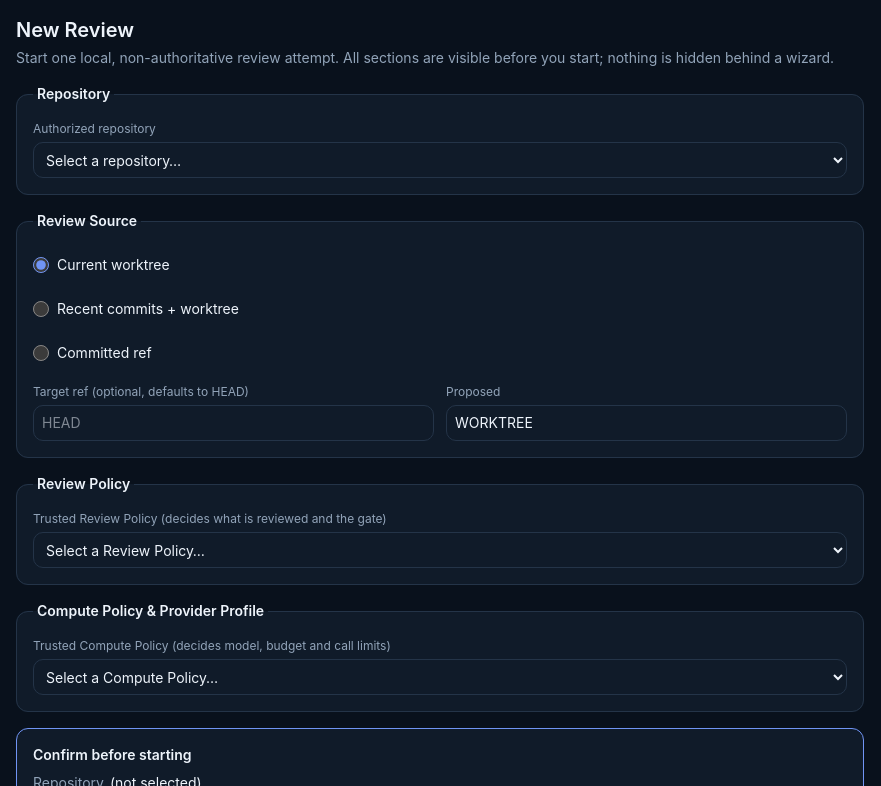
Test: NewReviewPage › blocks committed-ref submission when the worktree is dirty
Select "acme/payment-service" in the dropdown labelled "Authorized repository". click: x=440, y=160
box: 33,142 -> 847,178
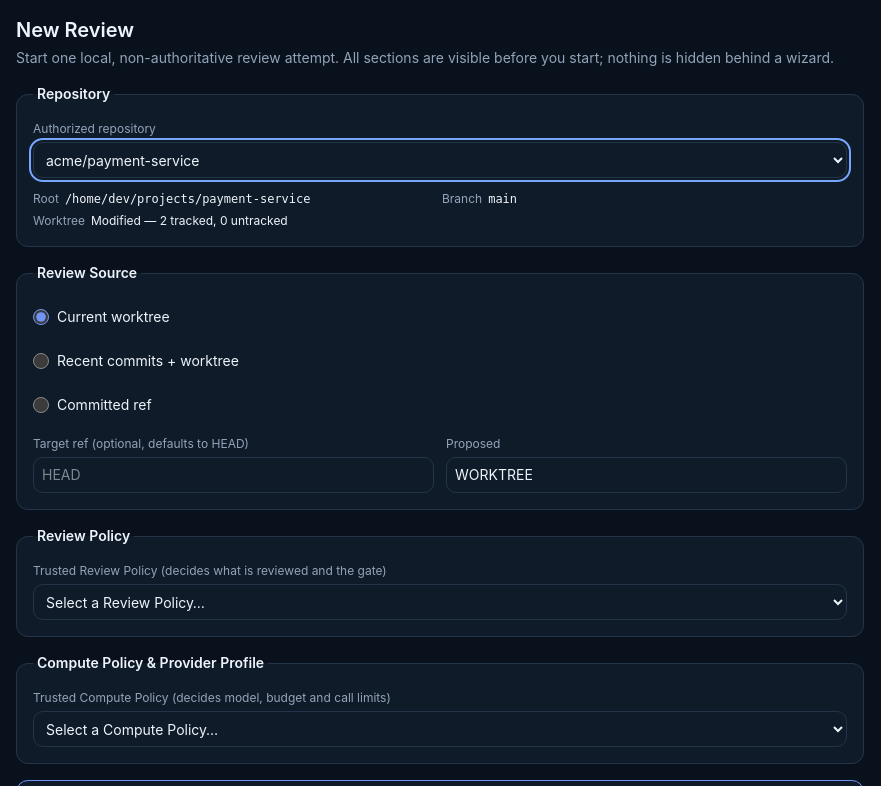
Select "default-review 1.3.0 (built-in)" in the dropdown labelled "Trusted Review Policy". click: x=440, y=602
box: 33,584 -> 847,620
(page scrolled)
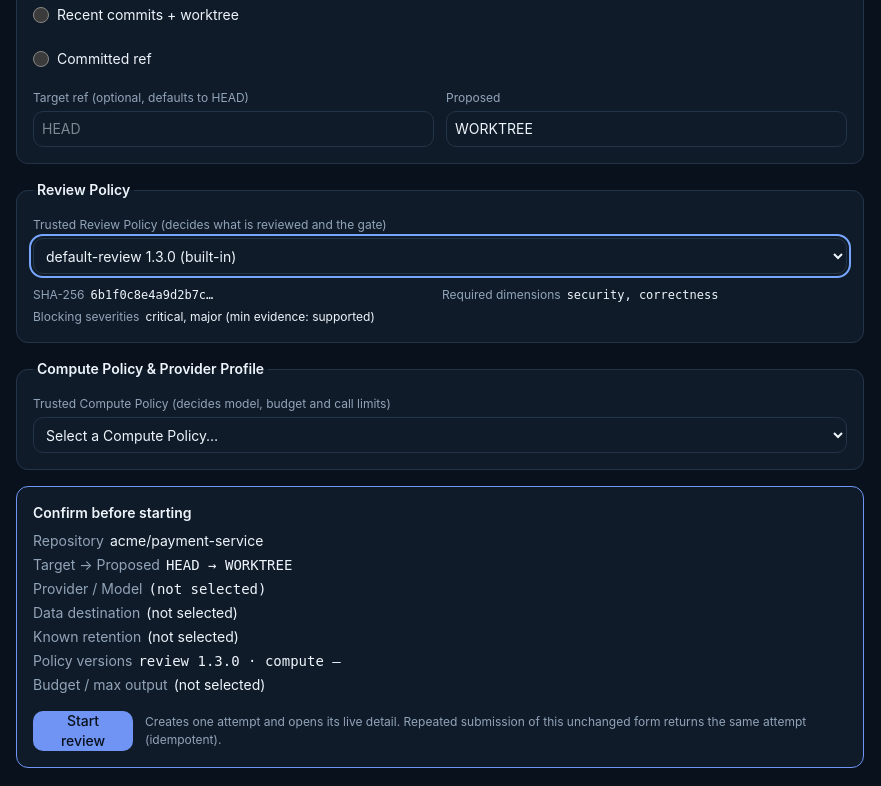
Select "openai-gpt-5.6 2.1.0 — openai / gpt-5.6" in the dropdown labelled "Trusted Compute Policy". click: x=440, y=435
box: 33,417 -> 847,453
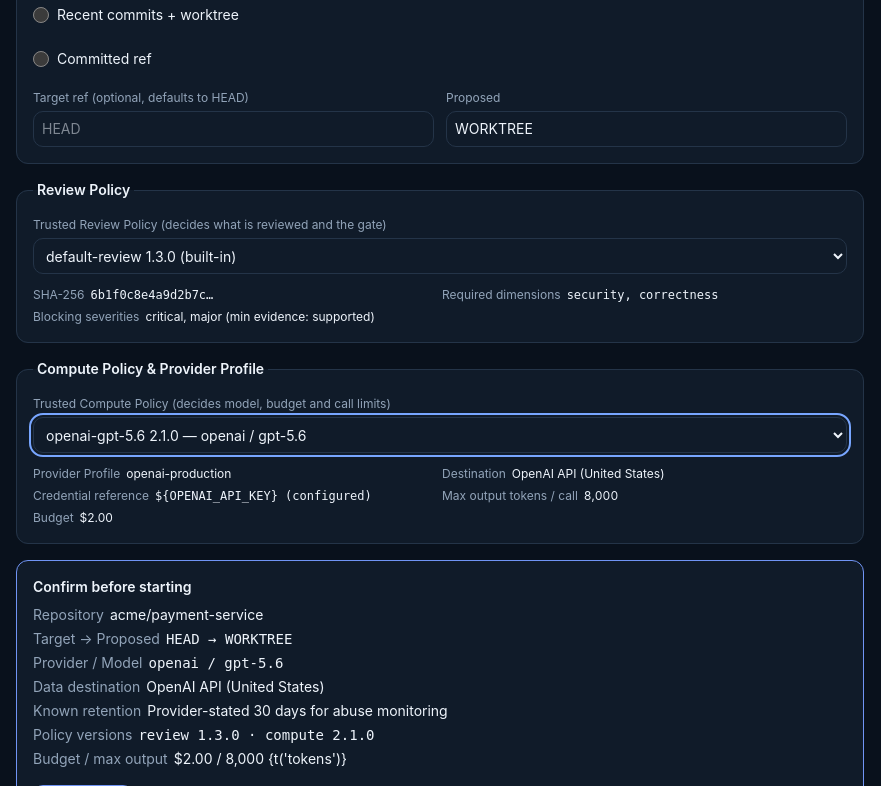
Click the radio button labelled "Committed ref". click: x=41, y=59
box: 33,51 -> 49,67
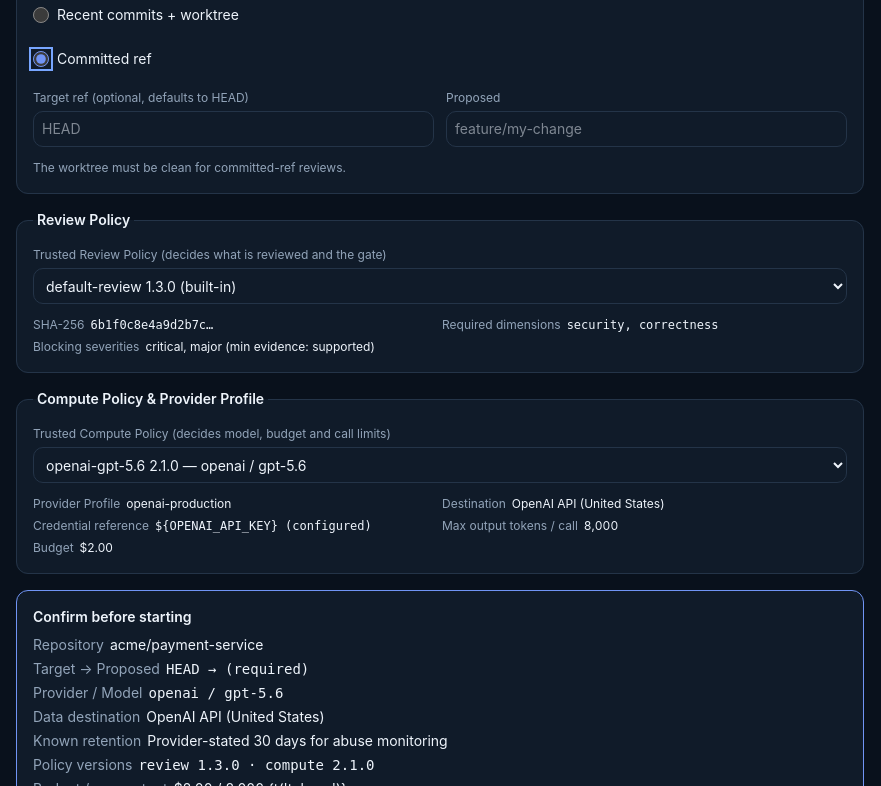
Type "feature/x" into the field labelled "Proposed". click: x=646, y=129
box: 446,111 -> 847,147
(page scrolled)
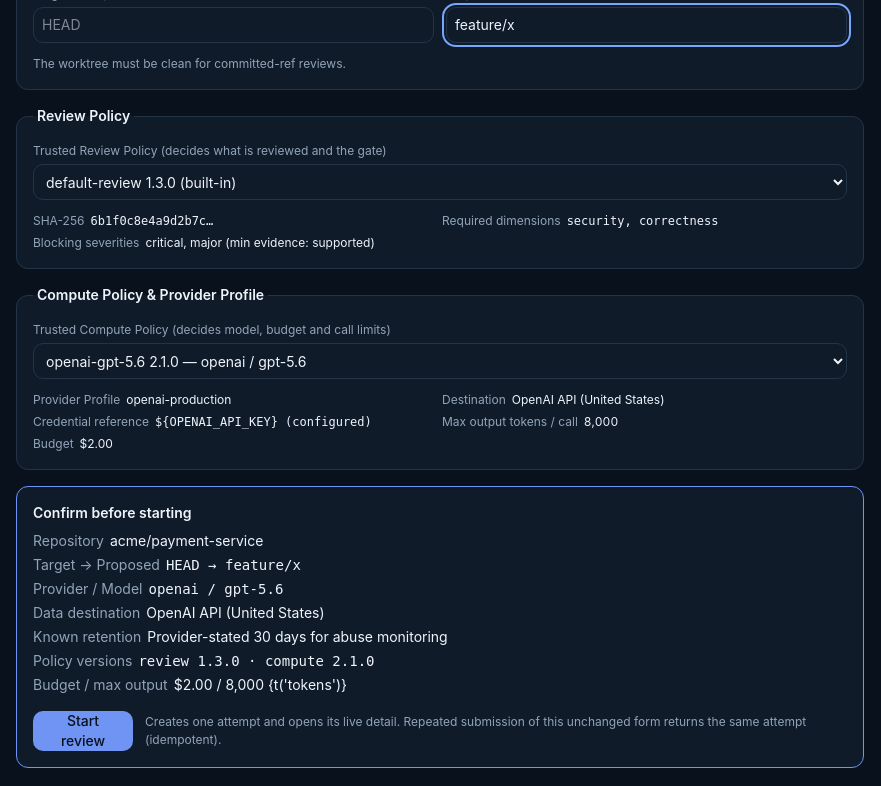
Click the button "Start review". click: x=83, y=731
box: 33,711 -> 133,751
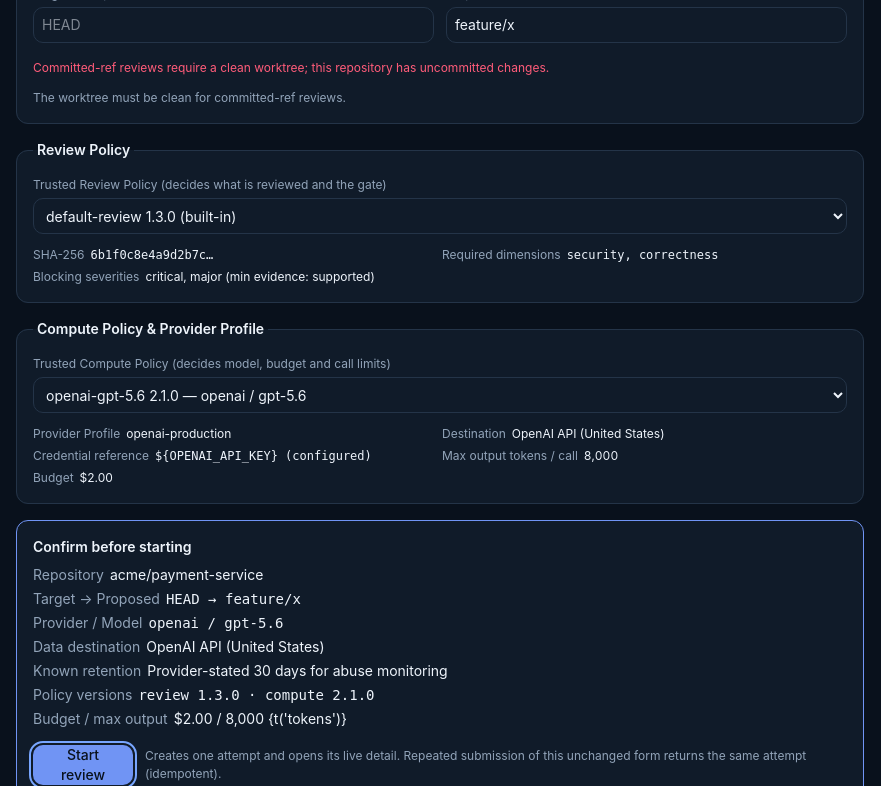
Expected: the text "require a clean worktree" is shown, 33,60 -> 549,75
